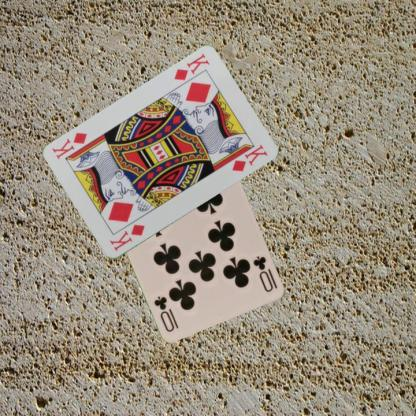10c: (251, 253, 275, 294)
Kd: (171, 51, 211, 82), (107, 222, 146, 252)
